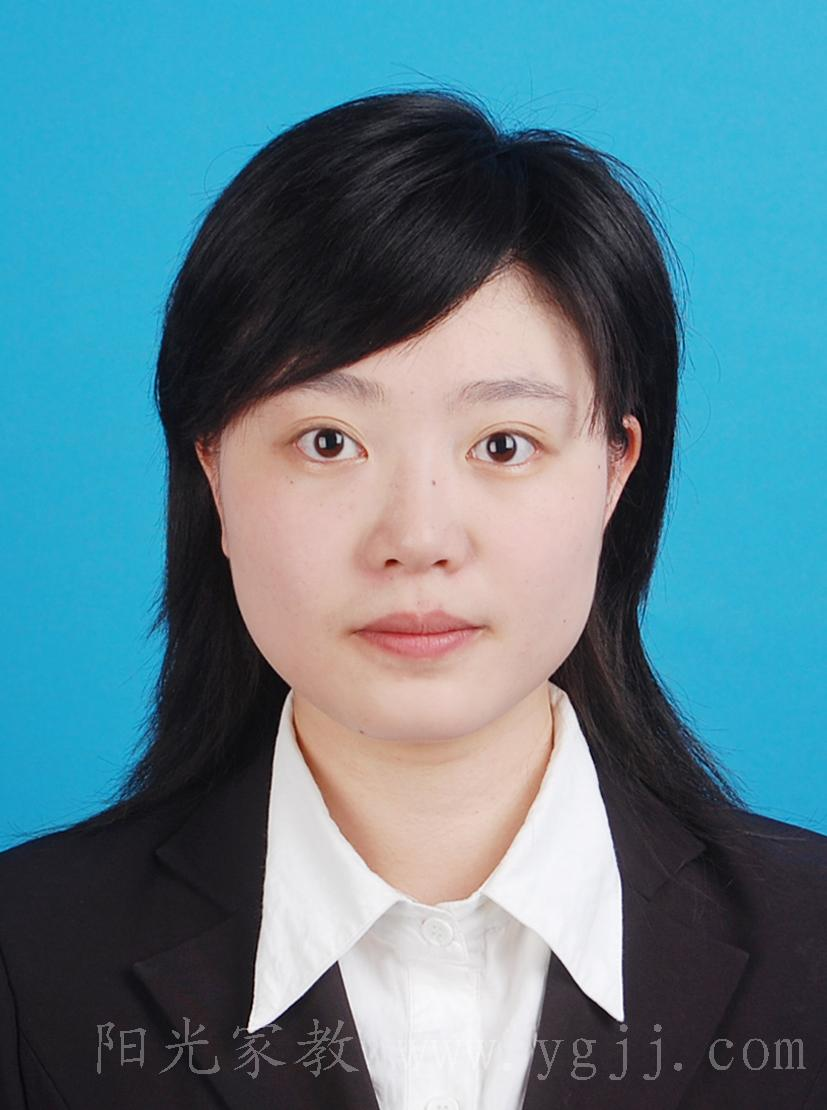unmask: (226, 308, 607, 713)
